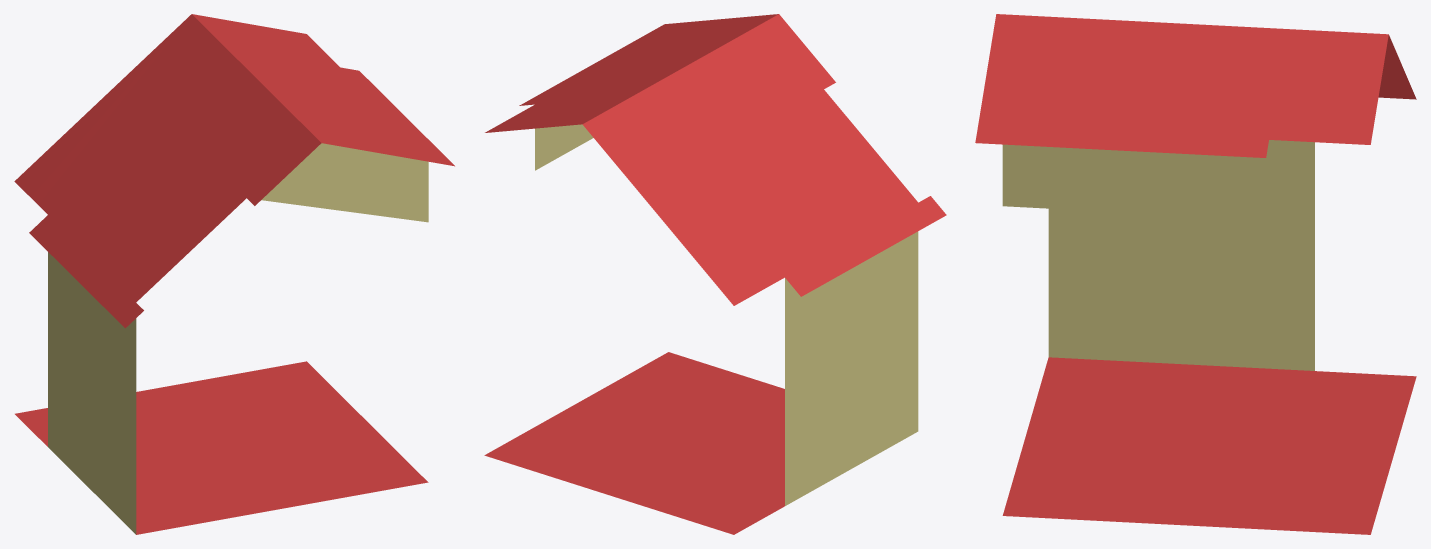
3 renders of one model, left to right at view 1: azimuth 30°, elevation 25°; view 2: azimuth 150°, elevation 25°; view 3: azimuth 270°, elevation 25°, orthographic. The views are drawn at different scales.
Bounding box in the file's own units: 9.35 × 8.98 × 9.84.
